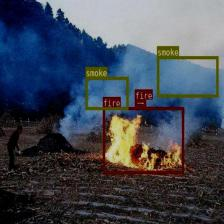fire: (102, 107, 183, 173), (134, 99, 146, 106)
smoke: (156, 56, 218, 97), (85, 77, 128, 109)
